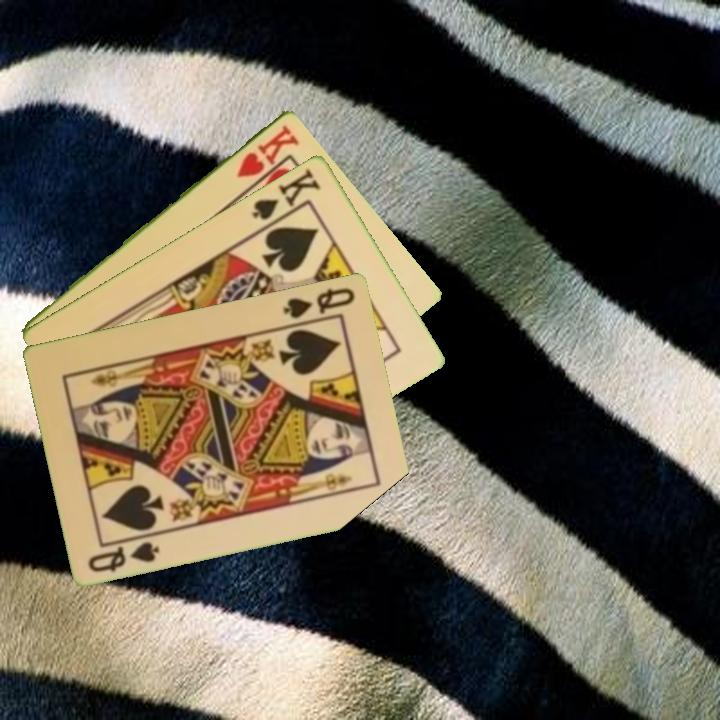Kh: (232, 120, 302, 180)
Ks: (248, 163, 323, 231)
Qs: (85, 531, 162, 575), (279, 283, 358, 321)
